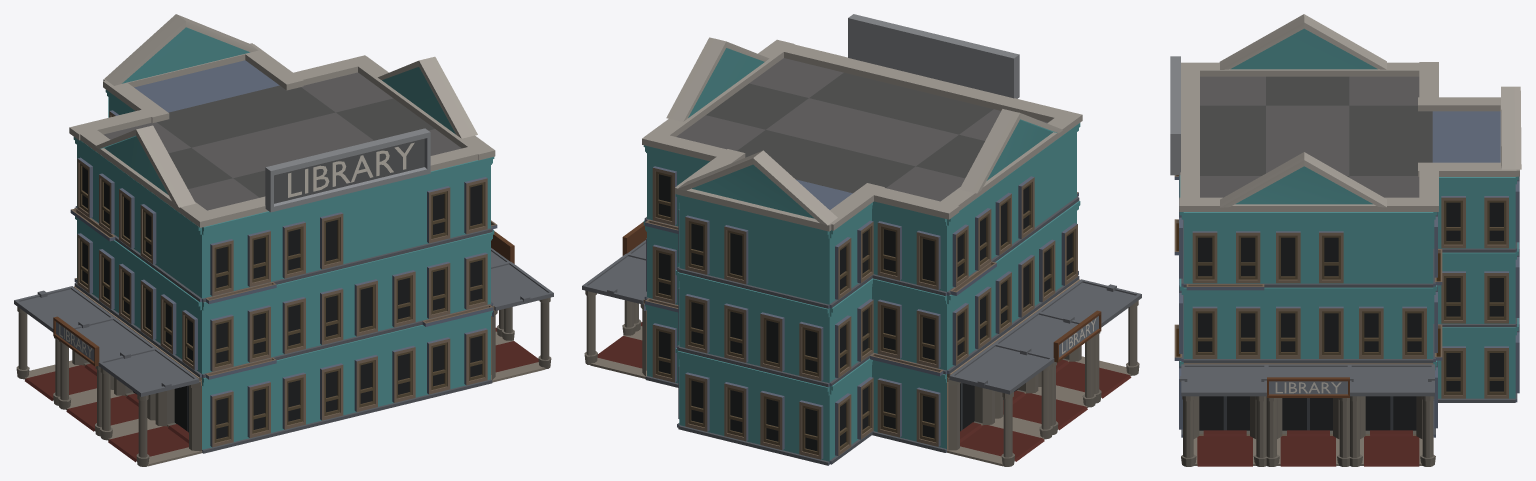
Rendered from Library.fbx.
3 views of the same model, side by side, from view 1: azimuth 30°, elevation 25°; view 2: azimuth 150°, elevation 25°; view 3: azimuth 270°, elevation 25° (orthographic). The views are drawn at different scales.
Parts seen in each view (by area): view 1: SM_bule_house5; view 2: SM_bule_house5; view 3: SM_bule_house5.
Part boxes in pixels (x1,y1,x2,y2): SM_bule_house5: (14, 14, 553, 466); SM_bule_house5: (582, 14, 1141, 466); SM_bule_house5: (1170, 14, 1521, 466).
Bounding box in the file's own units: 2323 × 1487 × 1688.
